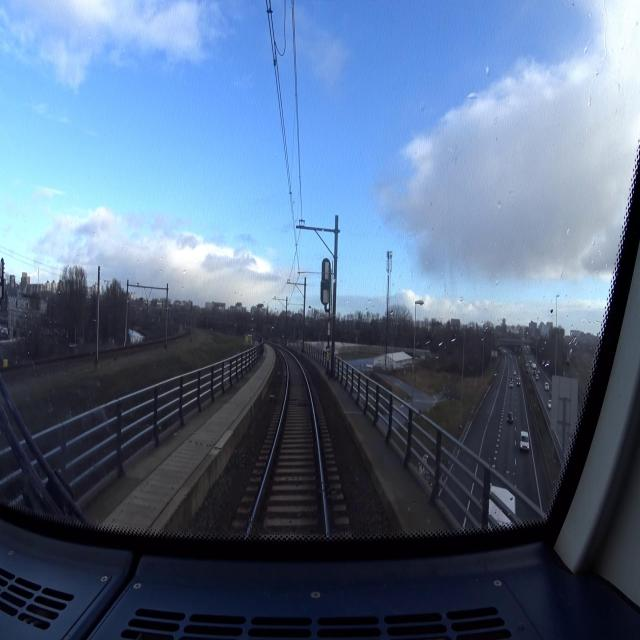rail-track: (250, 353, 324, 539)
